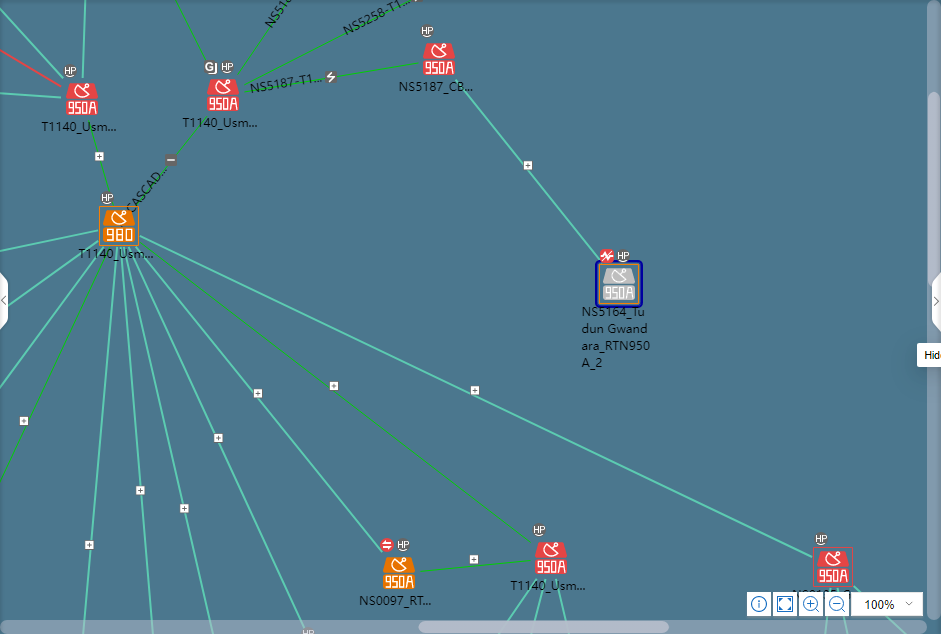Link_Blue: (140, 234, 813, 561), (134, 247, 384, 555), (128, 247, 307, 630), (123, 247, 215, 634), (454, 77, 601, 262), (0, 247, 105, 391), (81, 247, 118, 634), (120, 247, 155, 634), (8, 239, 98, 309), (0, 7, 65, 81), (0, 229, 98, 253), (507, 577, 538, 620), (553, 578, 569, 620), (533, 578, 547, 620), (0, 91, 61, 100), (81, 0, 87, 80)
Link_Green: (140, 241, 532, 547), (0, 249, 112, 485), (244, 0, 413, 90), (133, 115, 209, 206), (243, 58, 421, 95), (232, 0, 291, 78), (173, 0, 209, 62), (415, 559, 532, 576), (88, 121, 112, 193)
Link_Red: (0, 47, 64, 89)
RTN_Gray: (600, 267, 635, 301)
RTN_Orange: (100, 208, 135, 243), (383, 558, 414, 590)
RTN_Red: (813, 550, 851, 587), (423, 43, 454, 75), (535, 543, 566, 575), (207, 79, 238, 111), (66, 83, 97, 115)
